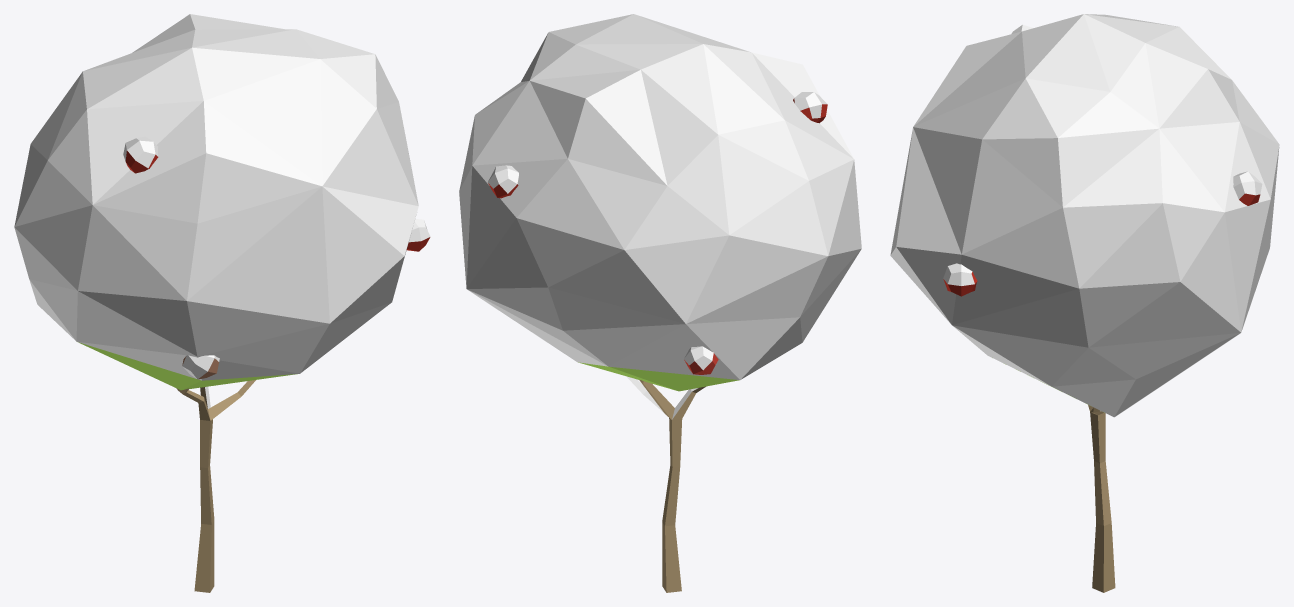
File: Apple_Tree_Apples_s_Snow_02.fbx
3 renders of one model, left to right at view 1: azimuth 30°, elevation 25°; view 2: azimuth 150°, elevation 25°; view 3: azimuth 270°, elevation 25°, orthographic. The views are drawn at different scales.
Visible parts, largest first — view 1: Apple_Tree_Apples_s_Snow_02; view 2: Apple_Tree_Apples_s_Snow_02; view 3: Apple_Tree_Apples_s_Snow_02.
Boxes of the visible parts, x1,y1,x2,y2 form: Apple_Tree_Apples_s_Snow_02: (14, 14, 430, 592); Apple_Tree_Apples_s_Snow_02: (459, 14, 861, 592); Apple_Tree_Apples_s_Snow_02: (890, 14, 1279, 592).
Size of the model in its own units: 223 by 320 by 201.
